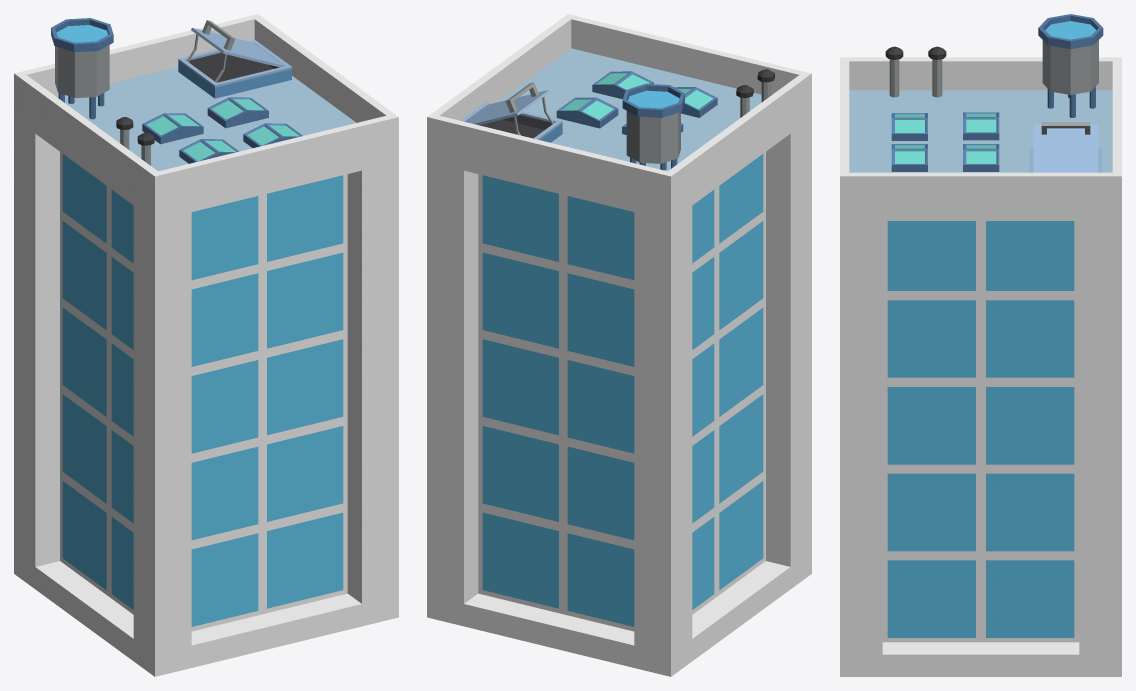
Rendered from SM_Skyscraper_JumpHigher_01a.fbx.
3 views of the same model, side by side, from view 1: azimuth 30°, elevation 25°; view 2: azimuth 150°, elevation 25°; view 3: azimuth 270°, elevation 25° (orthographic).
Visible parts, largest first — view 1: Skyscraper_01a, Roof_Door_01a, Roof_Water_Tank_01a, Roof_Window_01a_001, Roof_Window_01a_002, Roof_Window_01a_003, Roof_Window_01a; view 2: Skyscraper_01a, Roof_Water_Tank_01a, Roof_Door_01a, Roof_Window_01a_001, Roof_Window_01a_003, Roof_Window_01a; view 3: Skyscraper_01a, Roof_Water_Tank_01a, Roof_Door_01a, Roof_Window_01a_002, Roof_Window_01a_001, Roof_Window_01a, Roof_Window_01a_003, Roof_Pipe_01a_001, Roof_Pipe_01a.
Part boxes in pixels (box(x1,y1,x2,y2)): Skyscraper_01a: box(14, 14, 398, 676); Roof_Door_01a: box(178, 20, 291, 98); Roof_Water_Tank_01a: box(51, 18, 113, 119); Roof_Window_01a_001: box(207, 97, 268, 128); Roof_Window_01a_002: box(142, 113, 203, 144); Roof_Window_01a_003: box(243, 123, 302, 147); Roof_Window_01a: box(179, 139, 238, 163); Skyscraper_01a: box(427, 14, 811, 676); Roof_Water_Tank_01a: box(622, 83, 684, 170); Roof_Door_01a: box(460, 82, 562, 142); Roof_Window_01a_001: box(556, 97, 618, 128); Roof_Window_01a_003: box(592, 71, 653, 99); Roof_Window_01a: box(674, 87, 717, 117); Skyscraper_01a: box(840, 57, 1121, 676); Roof_Water_Tank_01a: box(1038, 14, 1103, 117); Roof_Door_01a: box(1029, 122, 1102, 172); Roof_Window_01a_002: box(963, 112, 999, 140); Roof_Window_01a_001: box(963, 144, 999, 171); Roof_Window_01a: box(891, 113, 927, 140); Roof_Window_01a_003: box(891, 144, 927, 171); Roof_Pipe_01a_001: box(885, 46, 903, 97); Roof_Pipe_01a: box(928, 46, 946, 97).
Size of the model in its own units: 150 by 324 by 150.
